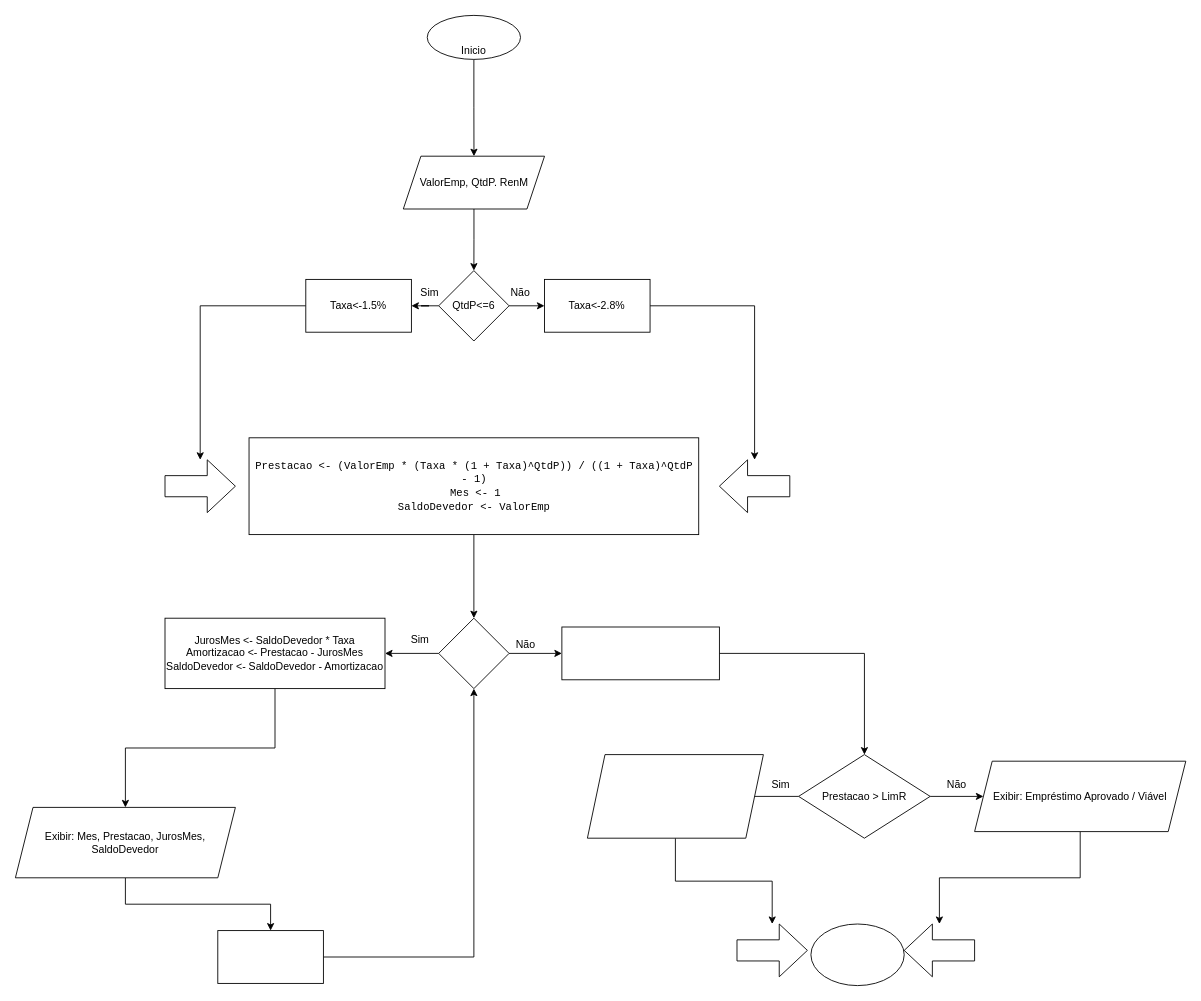
Some shapes in this 1201 by 1001 pixel diagram are drawn without their labels. Each missing label, with the centre of its shape:
Exibir: "Alerta: Parcela ultrapassa 30% da renda!": the point at 675,796
Fim: the point at 857,954
LimR <- RenM * 0.30: the point at 640,653
Mes <- Mes + 1: the point at 270,956
Mes<=QtdP: the point at 473,653
